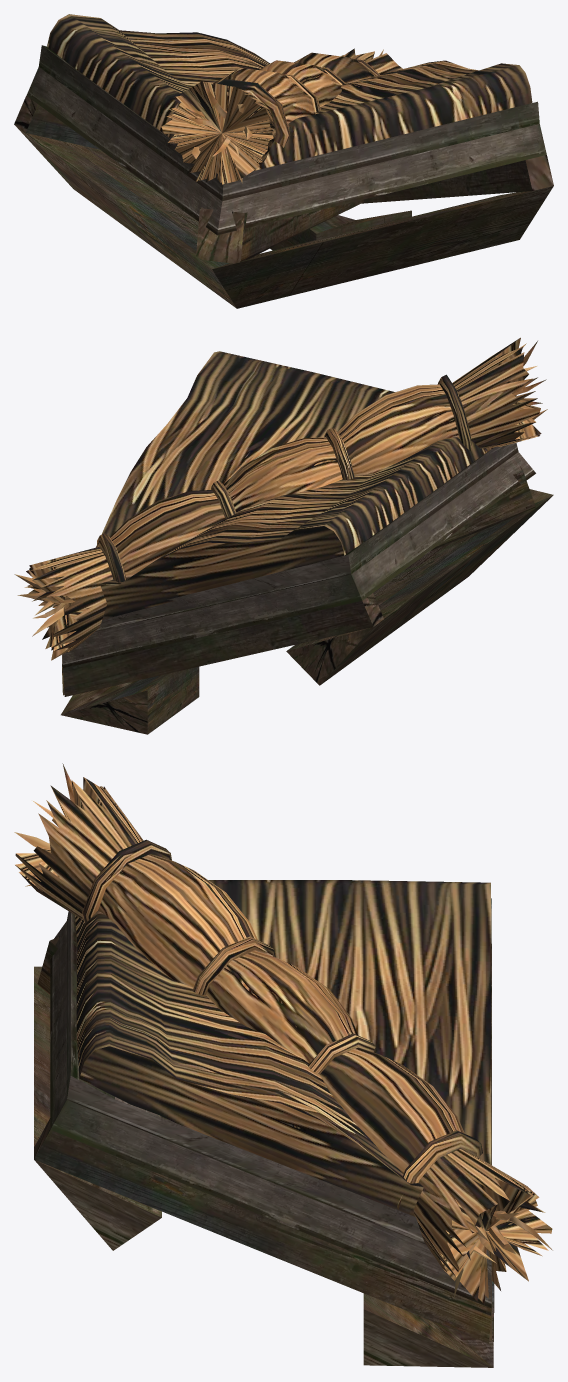
The picture shows the model from 3 angles, top to bottom: view 1: azimuth 30°, elevation 25°; view 2: azimuth 150°, elevation 25°; view 3: azimuth 270°, elevation 25°; orthographic projection. The views are drawn at different scales.
Visible parts, largest first — view 1: SM_BB_T1_Extended_Roof_Med_Valley_Shallow_LOD0; view 2: SM_BB_T1_Extended_Roof_Med_Valley_Shallow_LOD0; view 3: SM_BB_T1_Extended_Roof_Med_Valley_Shallow_LOD0.
Part boxes in pixels (left/top/right/bottom): SM_BB_T1_Extended_Roof_Med_Valley_Shallow_LOD0: left=14, top=14, right=553, bottom=308; SM_BB_T1_Extended_Roof_Med_Valley_Shallow_LOD0: left=14, top=337, right=553, bottom=734; SM_BB_T1_Extended_Roof_Med_Valley_Shallow_LOD0: left=14, top=763, right=552, bottom=1367.
Bounding box in the file's own units: 1.98 × 1.65 × 1.95.
3 materials, 3 textured.
